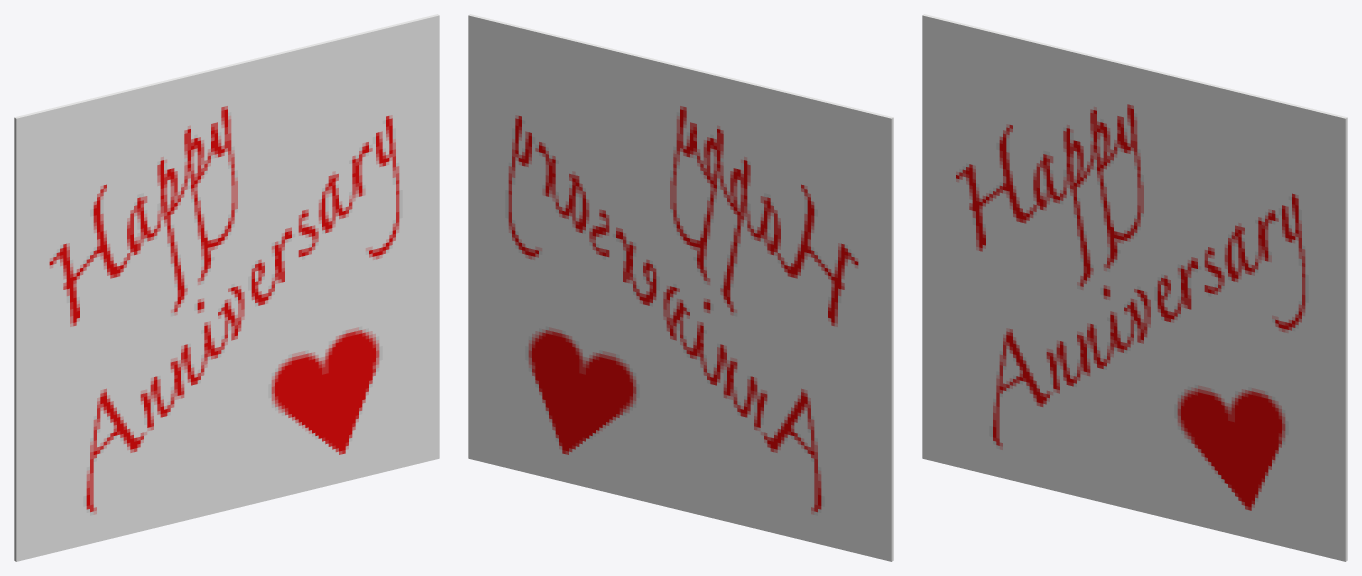
File: happy-anniv-card.obj
The picture shows the model from 3 angles, left to right: view 1: azimuth 30°, elevation 25°; view 2: azimuth 150°, elevation 25°; view 3: azimuth 330°, elevation 25°; orthographic projection.
Visible parts, largest first — view 1: happy-anniv-card; view 2: happy-anniv-card; view 3: happy-anniv-card.
Boxes of the visible parts, x1,y1,x2,y2 form: happy-anniv-card: [14, 14, 439, 561]; happy-anniv-card: [468, 14, 893, 561]; happy-anniv-card: [922, 14, 1347, 561].
Bounding box in the file's own units: 126 × 126 × 1.
Materials: 1 (1 with a texture image).
